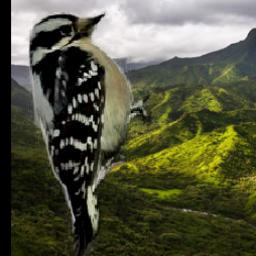Woodpecker: (24, 7, 165, 256)
